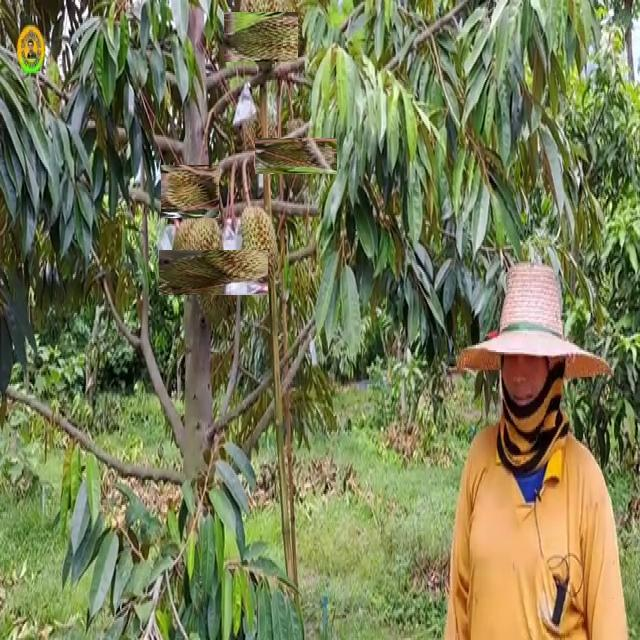durian: (175, 234, 252, 312), (234, 202, 281, 298), (169, 209, 224, 287), (230, 6, 292, 69), (266, 127, 326, 186), (162, 163, 218, 219), (279, 0, 306, 66)
